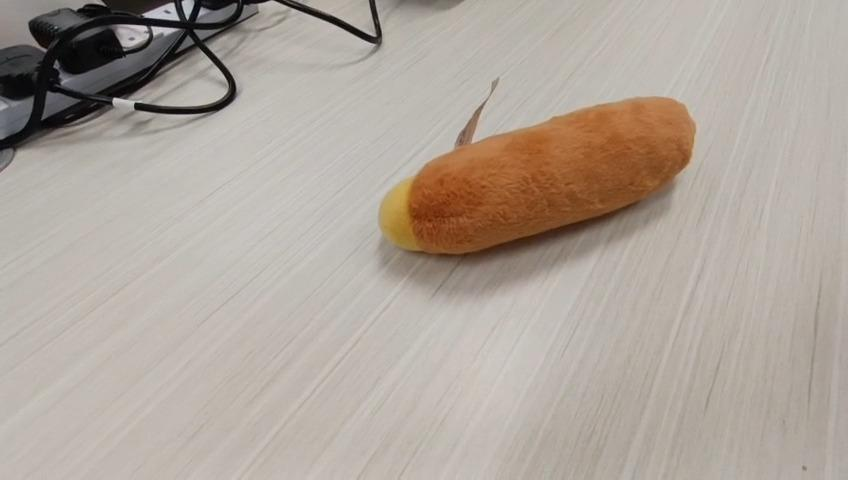hotdog: (377, 77, 696, 255)
